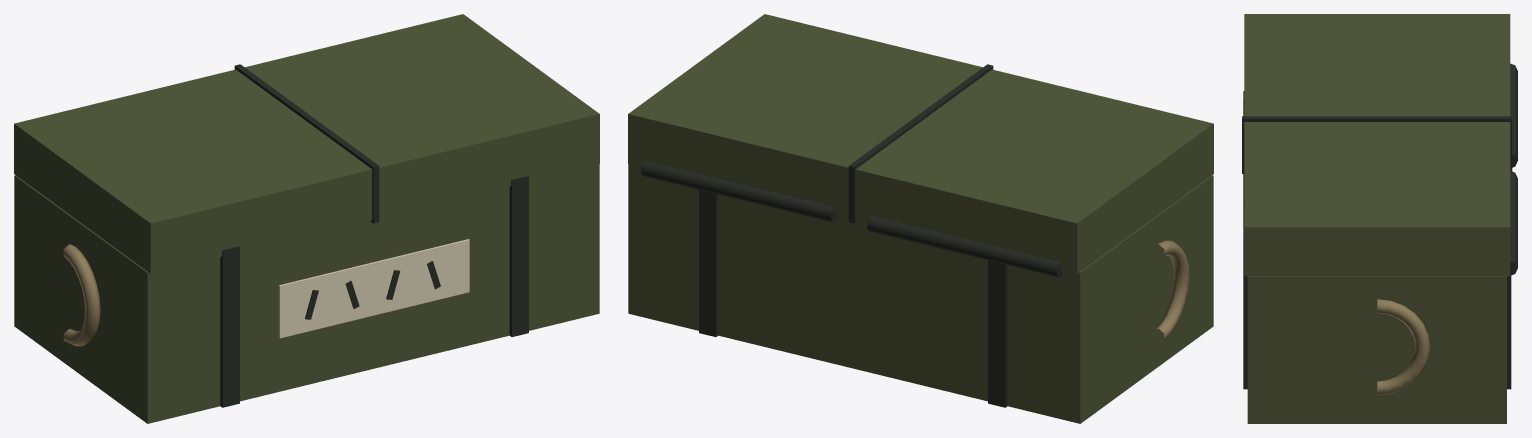
The picture shows the model from 3 angles, left to right: view 1: azimuth 30°, elevation 25°; view 2: azimuth 150°, elevation 25°; view 3: azimuth 270°, elevation 25°; orthographic projection. The views are drawn at different scales.
Parts seen in each view (by area): view 1: batch:olive-steel, batch:stencil, batch:worn-steel, batch:rope; view 2: batch:olive-steel, batch:worn-steel, batch:rope; view 3: batch:olive-steel, batch:worn-steel, batch:rope.
Boxes of the visible parts, x1,y1,x2,y2 form: batch:olive-steel: (14, 14, 599, 423); batch:stencil: (278, 239, 469, 338); batch:worn-steel: (220, 64, 528, 407); batch:rope: (63, 244, 100, 346); batch:olive-steel: (628, 14, 1213, 423); batch:worn-steel: (641, 64, 1062, 407); batch:rope: (1153, 240, 1189, 340); batch:olive-steel: (1244, 14, 1510, 423); batch:worn-steel: (1242, 63, 1517, 389); batch:rope: (1377, 299, 1430, 394).
Size of the model in its own units: 5.06 by 2.03 by 2.55.
